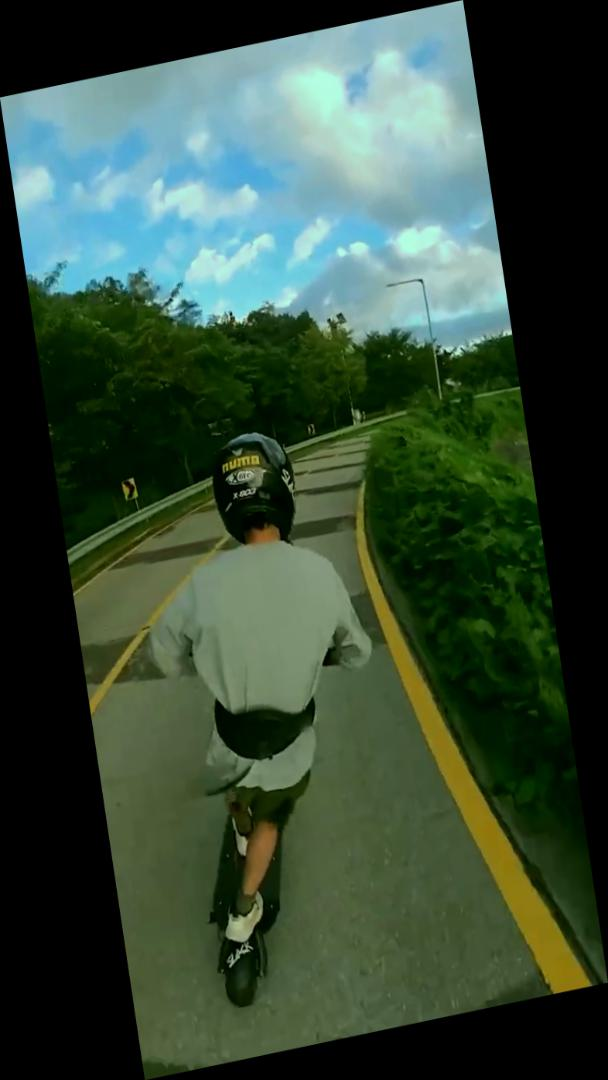helmet: (109, 409, 426, 1021)
